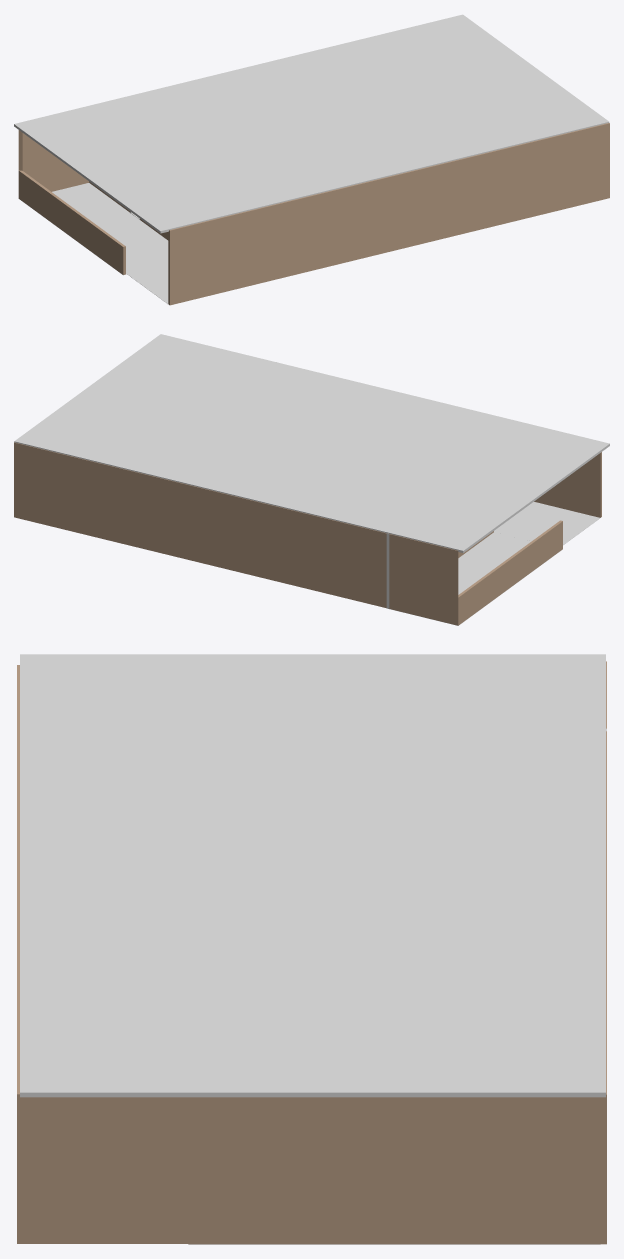
File: enuma_kantor.glb
3 renders of one model, top to bottom at view 1: azimuth 30°, elevation 25°; view 2: azimuth 150°, elevation 25°; view 3: azimuth 270°, elevation 25°, orthographic. The views are drawn at different scales.
Visible parts, largest first — view 1: Roof, Wall.024, Wall.029, Floor.012, Wall.028, Wall.027, Floor.010; view 2: Roof, Wall.005, Wall.015, Wall.027, Wall.028, Wall.029, Floor.010, Floor.012; view 3: Roof, Wall.017, Wall.023, Wall.015, Wall.024.
Part boxes in pixels (left/top/right/bottom): Roof: left=14, top=14, right=609, bottom=233; Wall.024: left=235, top=123, right=609, bottom=289; Wall.029: left=168, top=214, right=234, bottom=305; Floor.012: left=21, top=183, right=168, bottom=275; Wall.028: left=18, top=170, right=125, bottom=274; Wall.027: left=18, top=130, right=88, bottom=191; Floor.010: left=127, top=264, right=168, bottom=303; Roof: left=14, top=334, right=609, bottom=553; Wall.005: left=121, top=468, right=386, bottom=608; Wall.015: left=14, top=442, right=123, bottom=543; Wall.027: left=387, top=533, right=458, bottom=625; Wall.028: left=458, top=520, right=562, bottom=625; Wall.029: left=535, top=452, right=601, bottom=517; Floor.010: left=494, top=502, right=599, bottom=545; Floor.012: left=387, top=532, right=559, bottom=625; Roof: left=20, top=654, right=605, bottom=1097; Wall.017: left=188, top=1097, right=600, bottom=1244; Wall.023: left=17, top=1093, right=188, bottom=1243; Wall.015: left=600, top=990, right=606, bottom=1244; Wall.024: left=17, top=728, right=19, bottom=1094.
Size of the model in its own units: 25.13 by 4.06 by 14.3.
